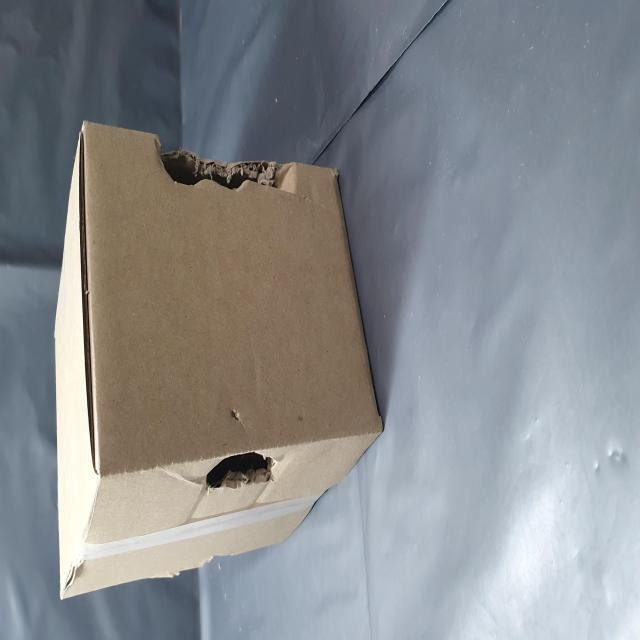damaged: (252, 265, 282, 514), (83, 361, 108, 495)
